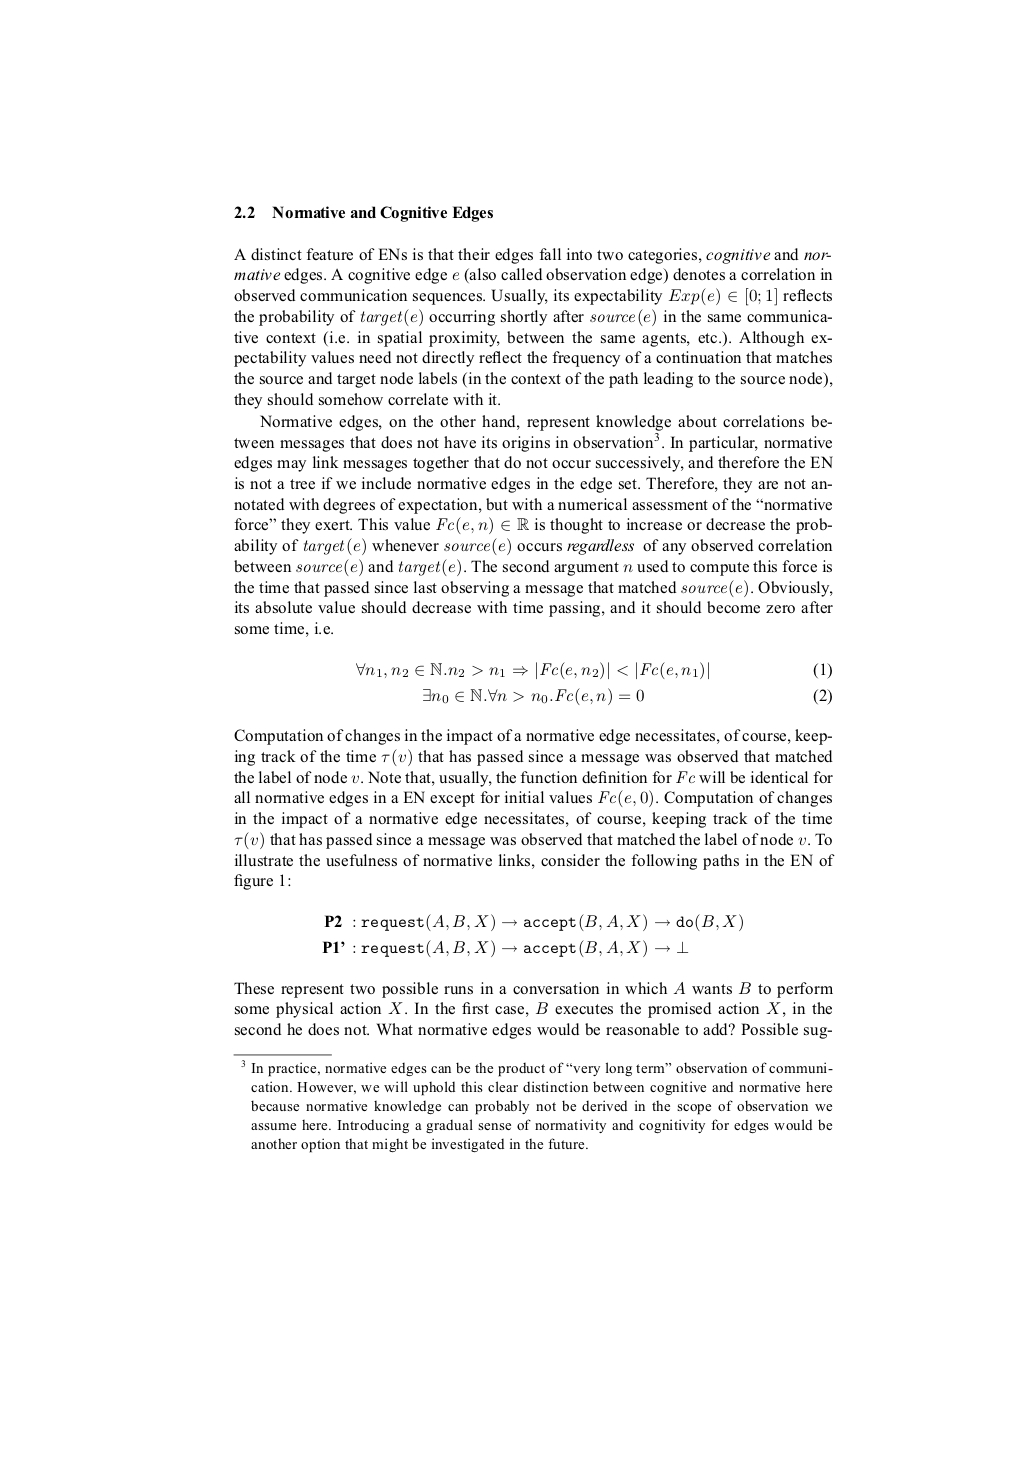formula: (356, 661, 831, 680), (324, 914, 742, 933), (423, 687, 831, 706), (322, 939, 688, 958)
